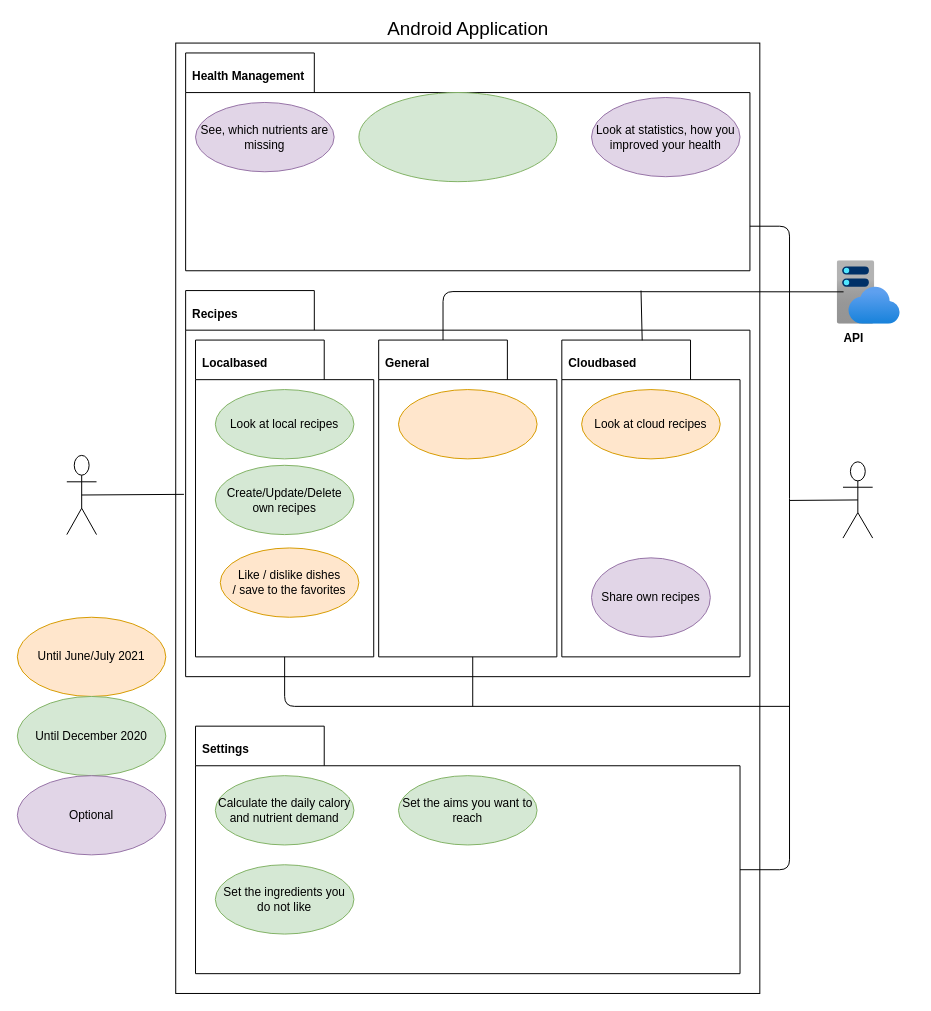
Image size: 931x1011. Some labels were removed from this diagram. The centre of each missing label's shape, as x and y in pixels:
Actor: the point at 81,494
Get recommendations, what you can eat next: the point at 467,424
Keep track of, how much you have been drinking over the day: the point at 457,137
Local Phone Storage: the point at 857,499
